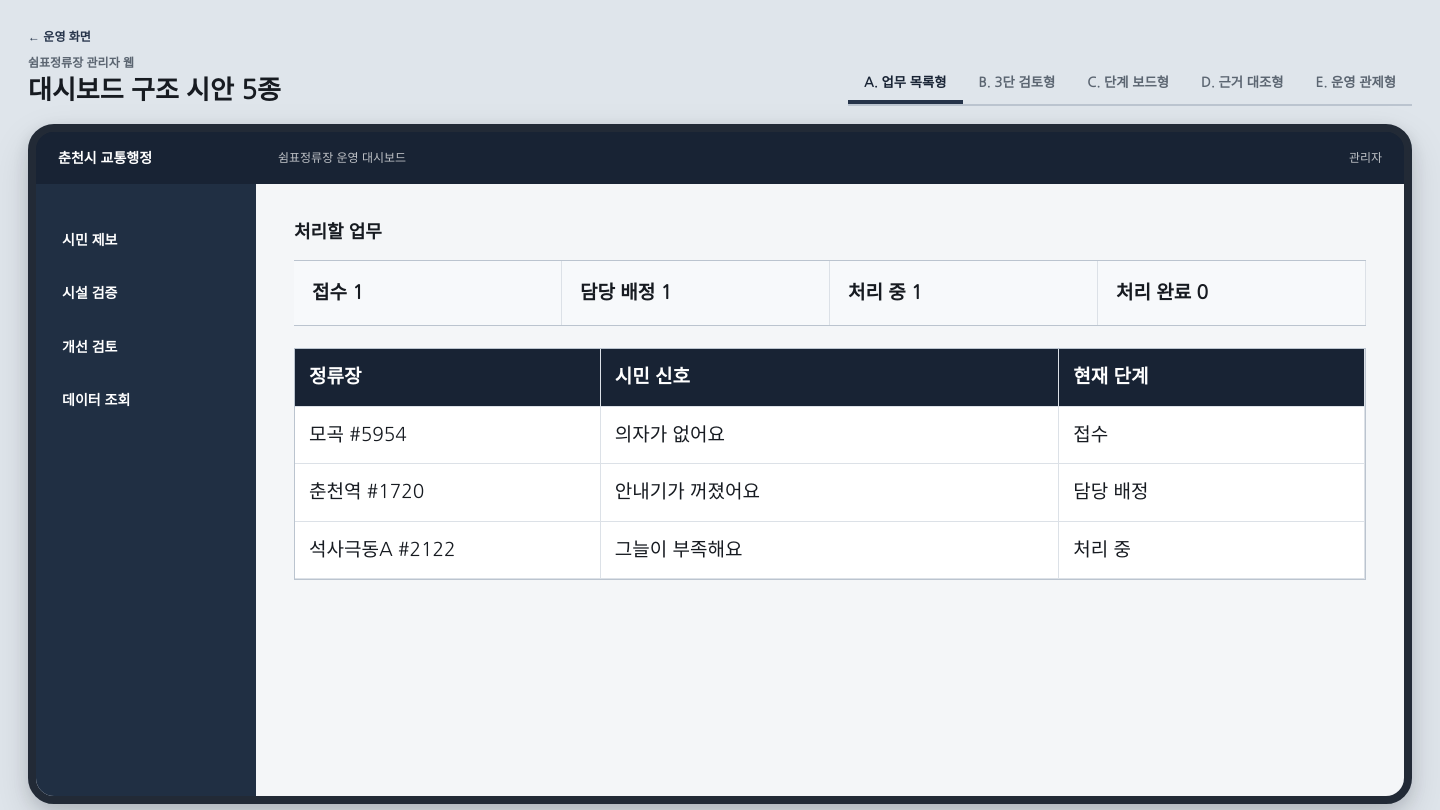
Test: <AdminConcepts> › 서로 다른 구조 시안 5개를 탭으로 전환한다
Click the tab "C. 단계 보드형". click: (1128,83)
box: [1071,62,1185,104]
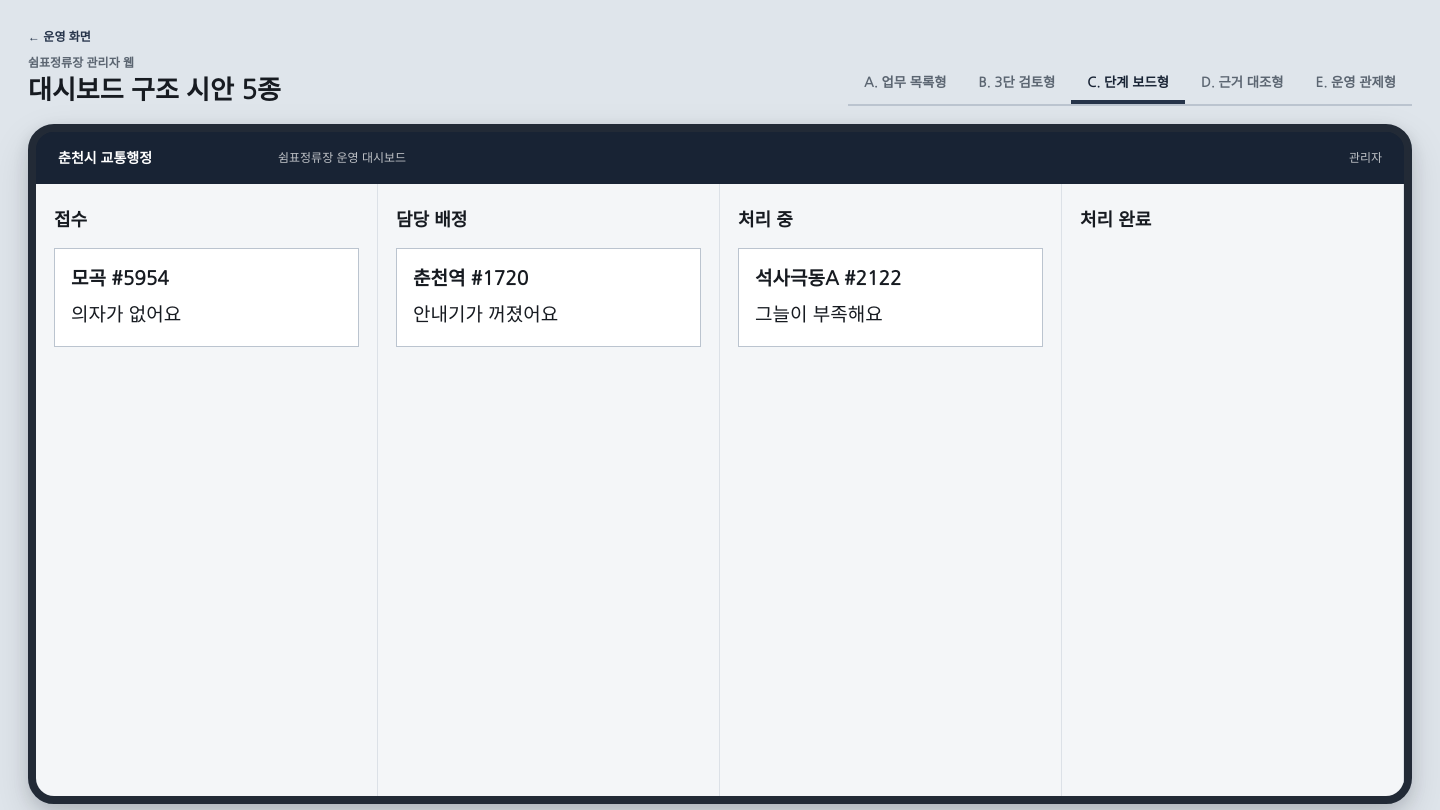
Expected: the heading "처리 완료" is shown, [1080,211,1151,229]
Click the tab "D. 근거 대조형". click: (1242,83)
box: [1185,62,1300,104]
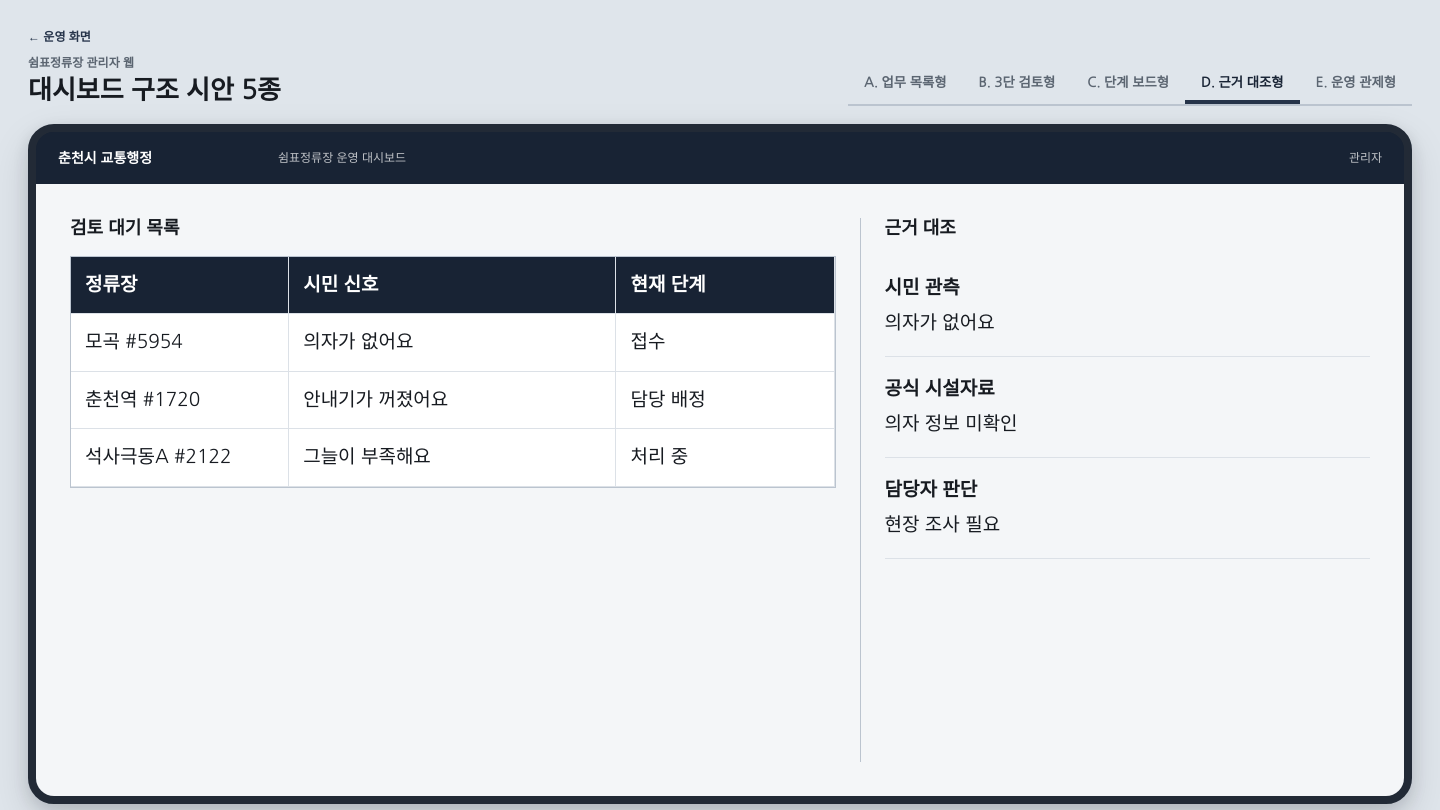
Expected: the text "공식 시설자료" is shown, [885,379,995,398]
